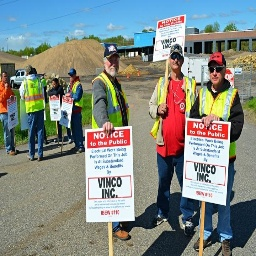person: (196, 51, 244, 256), (149, 44, 196, 229), (94, 45, 132, 129), (23, 64, 45, 161), (66, 66, 87, 155), (1, 69, 21, 157)
vest: (23, 75, 45, 115)
